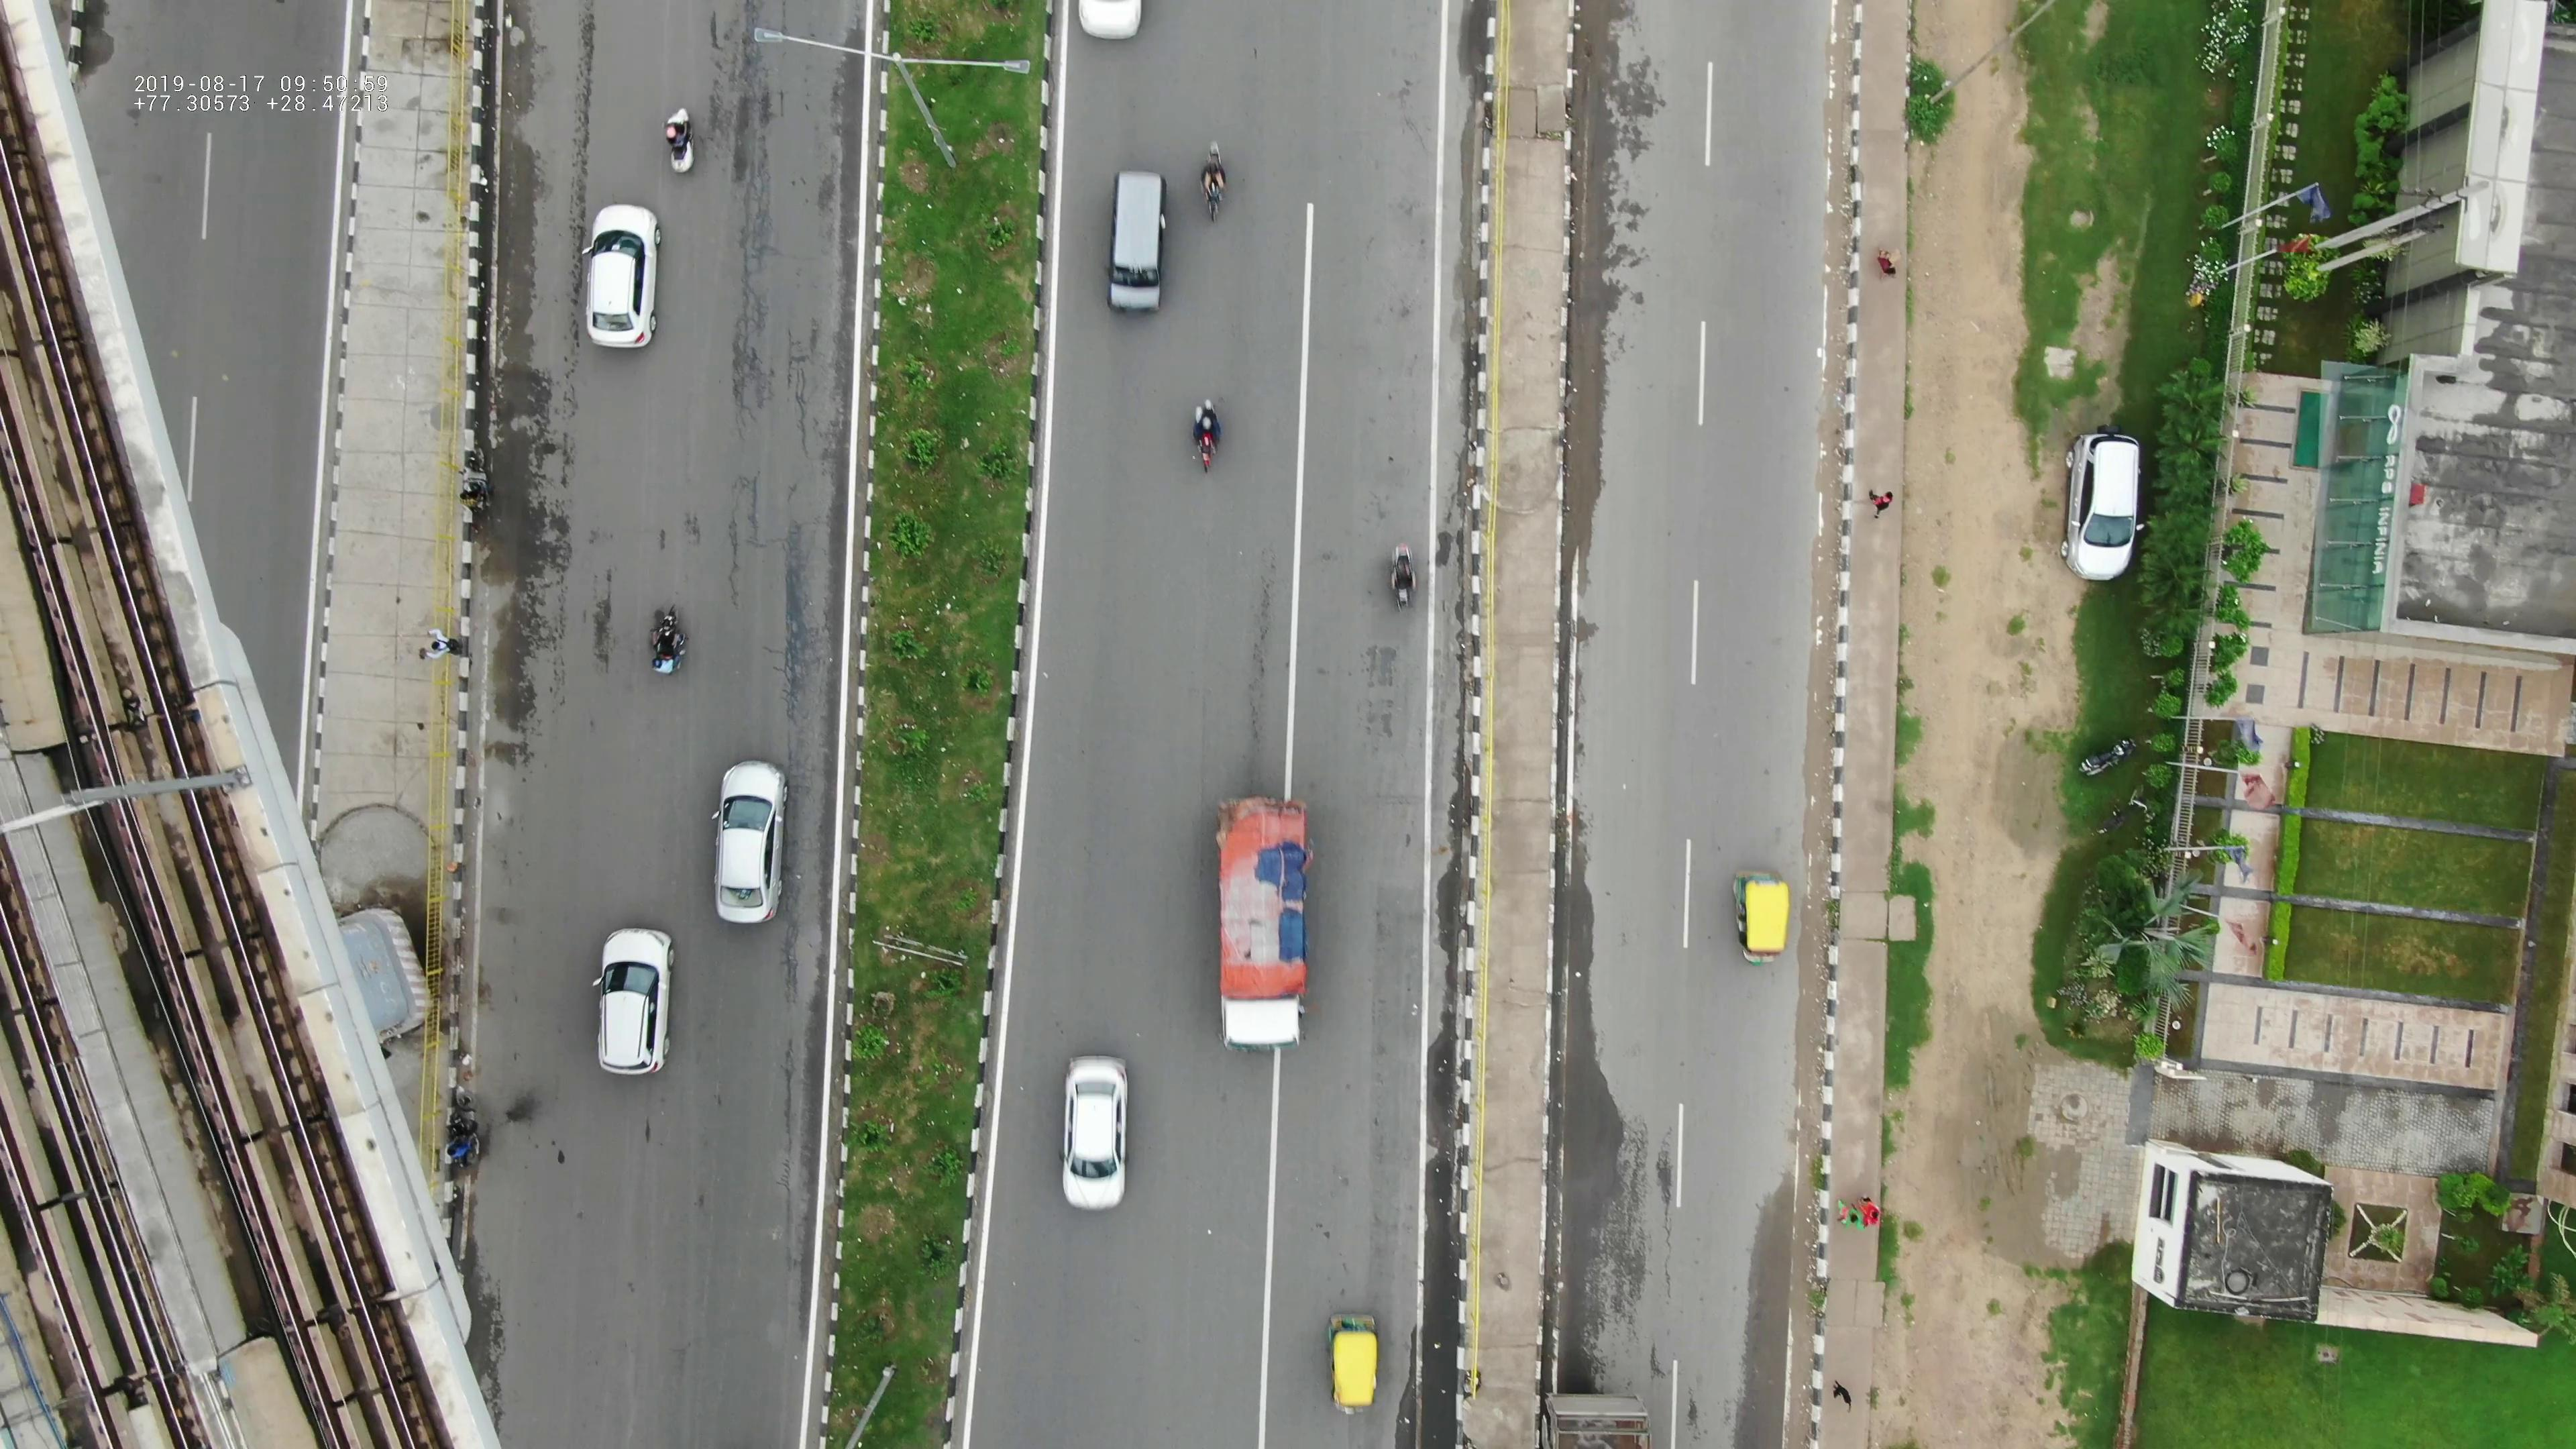Hair_cracks: (683, 318, 846, 671)
